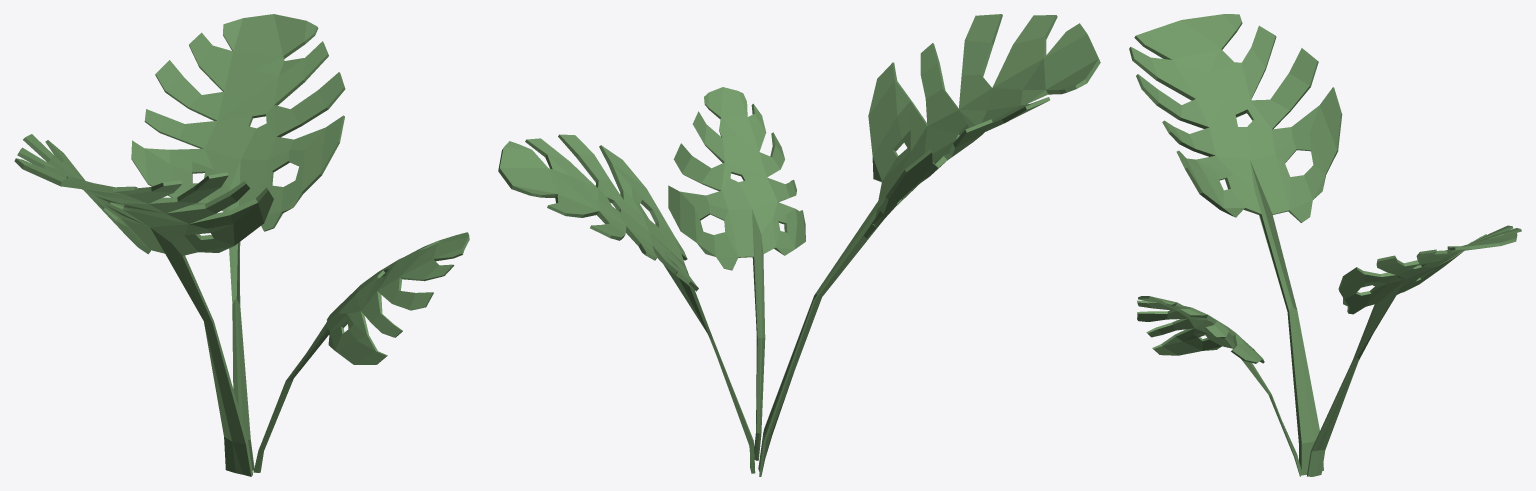
Rendered from 3DObj_fern _V1.fbx.
The picture shows the model from 3 angles, left to right: view 1: azimuth 30°, elevation 25°; view 2: azimuth 150°, elevation 25°; view 3: azimuth 270°, elevation 25°; orthographic projection. The views are drawn at different scales.
Visible parts, largest first — view 1: 3DObj_fern _V1; view 2: 3DObj_fern _V1; view 3: 3DObj_fern _V1.
Boxes of the visible parts, x1,y1,x2,y2 form: 3DObj_fern _V1: (14, 14, 469, 476); 3DObj_fern _V1: (498, 14, 1100, 476); 3DObj_fern _V1: (1129, 14, 1521, 476).
Bounding box in the file's own units: 137 × 126 × 127.
